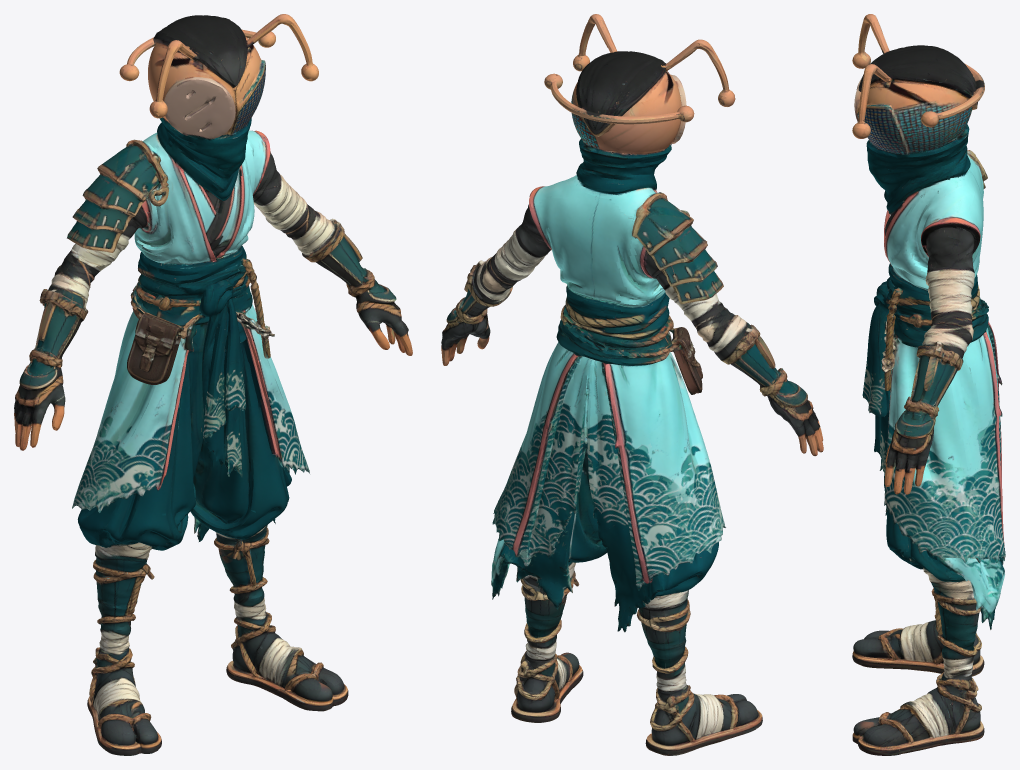
File: rebel_1555_static_source_wokou_v1.glb
The picture shows the model from 3 angles, left to right: view 1: azimuth 30°, elevation 25°; view 2: azimuth 150°, elevation 25°; view 3: azimuth 270°, elevation 25°; orthographic projection. The views are drawn at different scales.
Parts seen in each view (by area): view 1: Mesh_0; view 2: Mesh_0; view 3: Mesh_0.
Boxes of the visible parts, <box> form: Mesh_0: <box>14,14,412,755</box>; Mesh_0: <box>441,14,823,755</box>; Mesh_0: <box>852,14,1005,755</box>.
Bounding box in the file's own units: 1.12 × 1.9 × 0.3992.
Materials: 1 (1 with a texture image).
